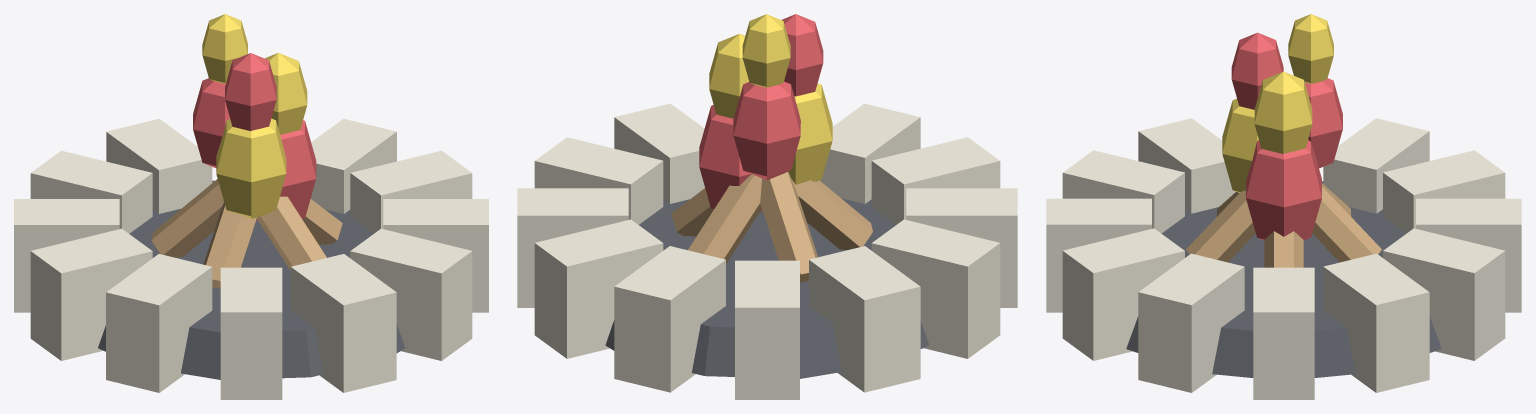
The model's file is lawn-mowing-simulator-kit-fire-pit-9c1ba932__27403.glb.
3 views of the same model, side by side, from view 1: azimuth 30°, elevation 25°; view 2: azimuth 150°, elevation 25°; view 3: azimuth 270°, elevation 25° (orthographic). The views are drawn at different scales.
Parts seen in each view (by area): view 1: fire-pit; view 2: fire-pit; view 3: fire-pit.
Boxes of the visible parts, x1,y1,x2,y2 form: fire-pit: (14,14,488,399); fire-pit: (517,14,1017,399); fire-pit: (1046,14,1521,399).
Bounding box in the file's own units: 1.08 × 0.7 × 1.08.
